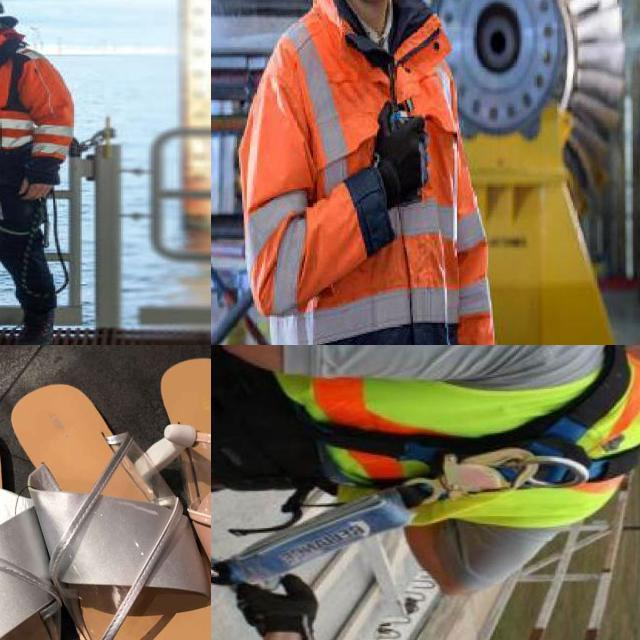Harness: (211, 345, 640, 512), (0, 42, 44, 237)
Sandals: (0, 382, 211, 640), (146, 345, 211, 640)
hand_glove: (345, 104, 427, 254)
